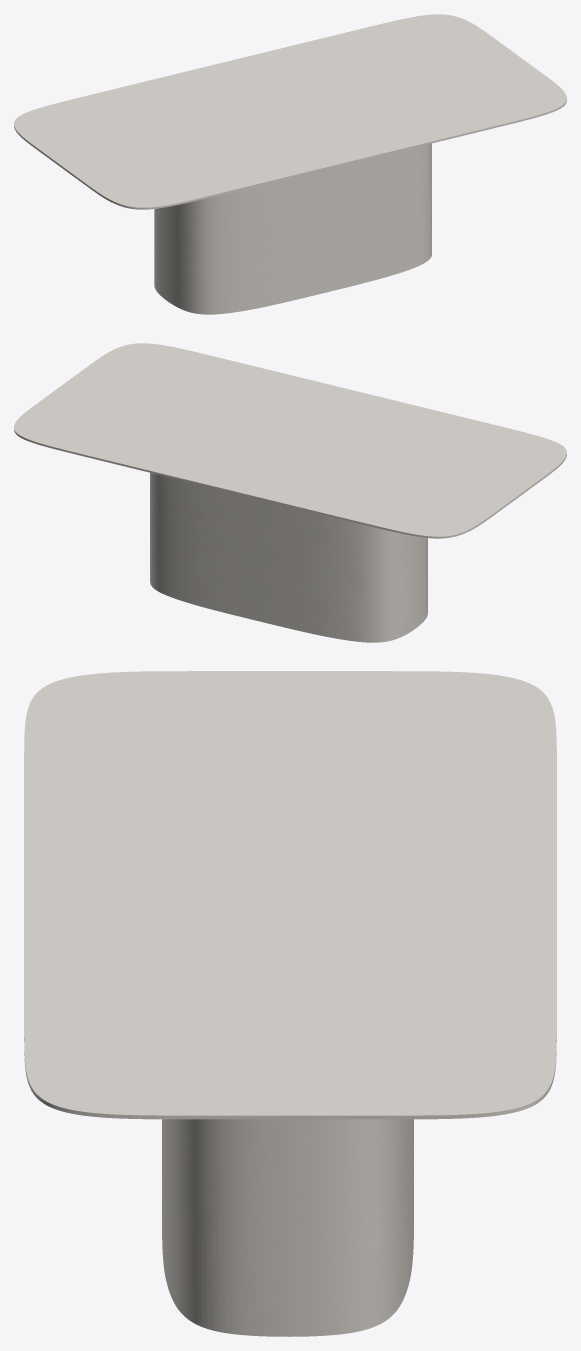
Rendered from pearlwhite_softrecta_facet_fixed.glb.
3 renders of one model, top to bottom at view 1: azimuth 30°, elevation 25°; view 2: azimuth 150°, elevation 25°; view 3: azimuth 270°, elevation 25°, orthographic. The views are drawn at different scales.
Visible parts, largest first — view 1: facet_softrecta, fixed; view 2: facet_softrecta, fixed; view 3: facet_softrecta, fixed.
Part boxes in pixels (<box>): facet_softrecta: <box>14,14,566,209</box>; fixed: <box>154,143,431,314</box>; facet_softrecta: <box>14,343,566,538</box>; fixed: <box>150,472,427,642</box>; facet_softrecta: <box>24,671,556,1119</box>; fixed: <box>162,1119,413,1336</box>.
Bounding box in the file's own units: 7.5 × 2.5 × 3.8.
1 material, 1 textured.
